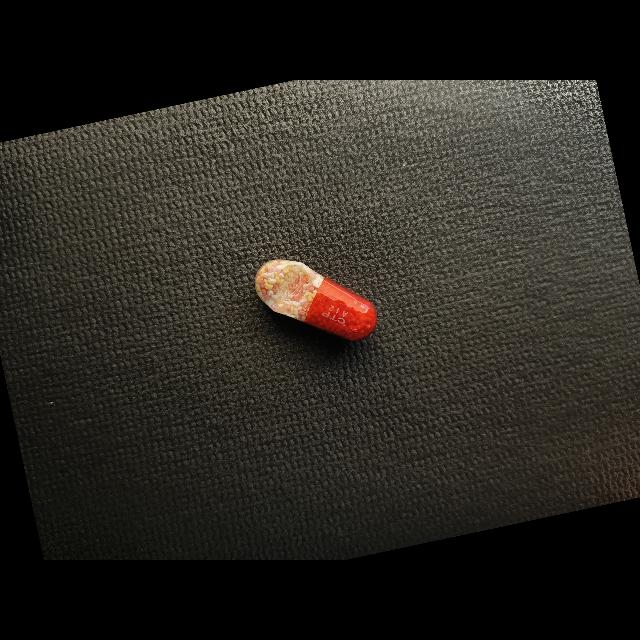Defective Capsule: (255, 259, 377, 341)
